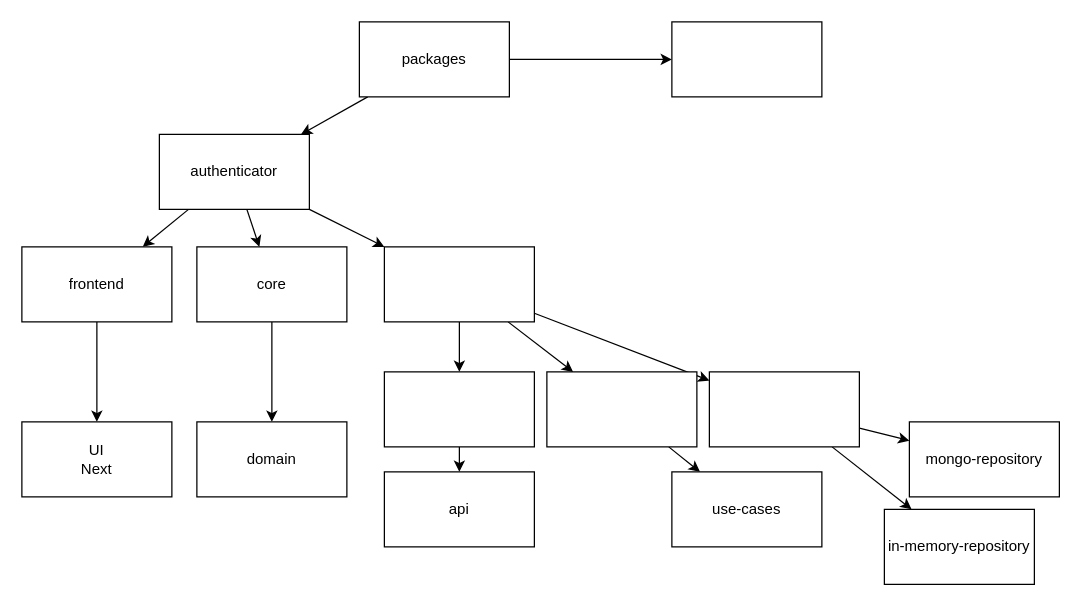
The diagram is 1081 pixels wide and 606 high, and some of its shapes have lost their labels. The centre of each missing label's shape, as x and y in pixels:
"application" goes at pixel 621 409.
"backend" goes at pixel 458 284.
"batlechessheroes" goes at pixel 746 59.
"presentation" goes at pixel 458 409.
"repository" goes at pixel 783 409.
